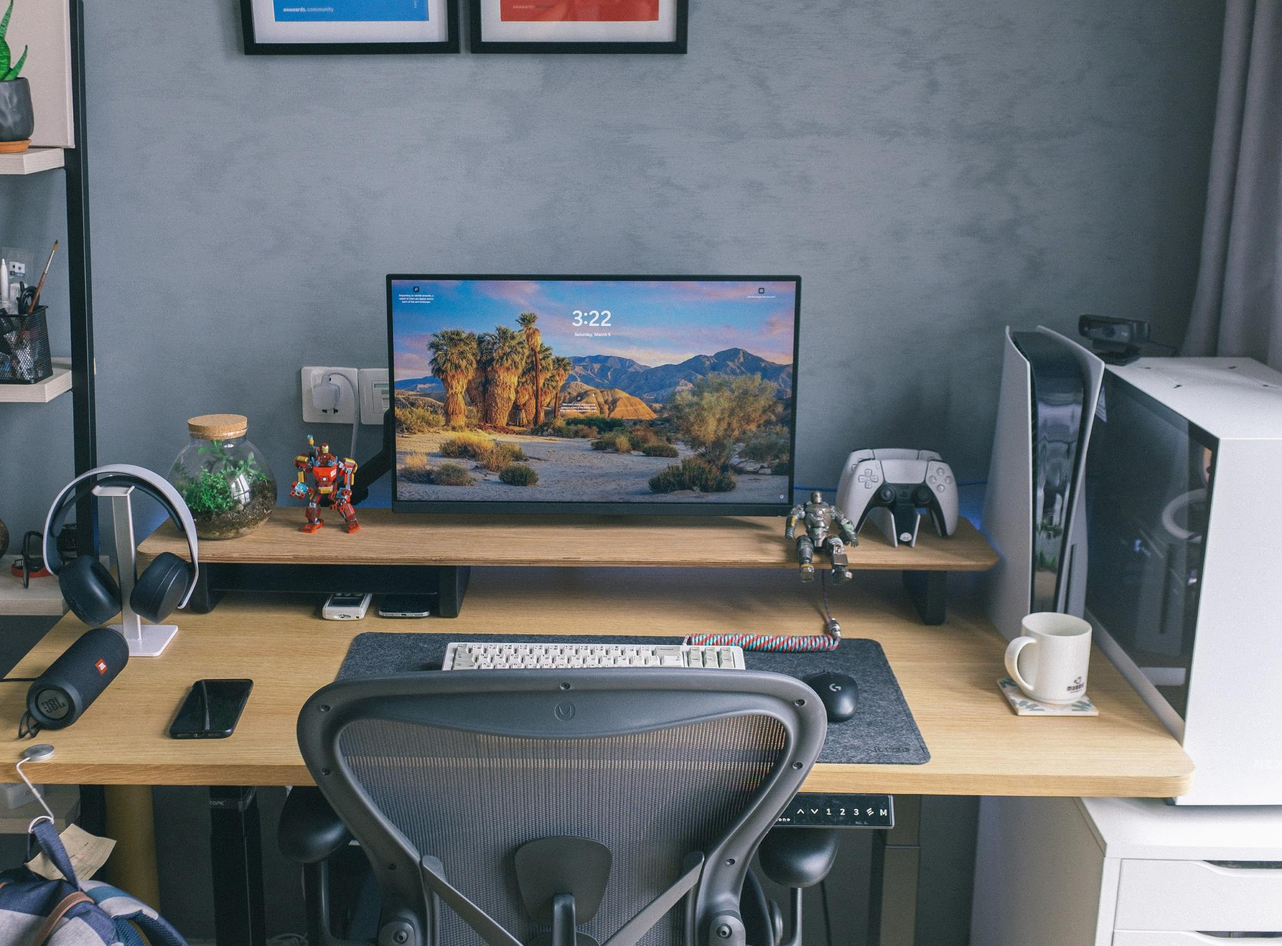PS4: (984, 305, 1107, 658)
head_phone: (27, 454, 208, 634)
joy_game: (817, 417, 977, 561)
keyboard: (416, 622, 761, 711)
mobile_phone: (160, 658, 256, 754)
monitor: (374, 258, 808, 525)
mouse: (792, 655, 868, 736)
pc: (1044, 324, 1282, 764)
speaker: (11, 616, 129, 735)
webcam: (1070, 284, 1163, 377)
